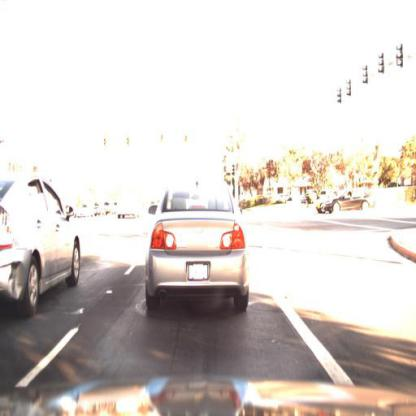car: (136, 167, 265, 340), (1, 176, 82, 316), (324, 190, 375, 217)
trafficLight: (124, 134, 132, 161), (103, 130, 111, 151), (160, 130, 168, 149)
trafficLight-Green: (179, 134, 193, 166), (234, 161, 242, 186), (156, 137, 164, 161), (235, 161, 243, 179)
trafficLight-Red: (183, 133, 190, 154)
trafficLight-RedLeft: (99, 133, 109, 159)
